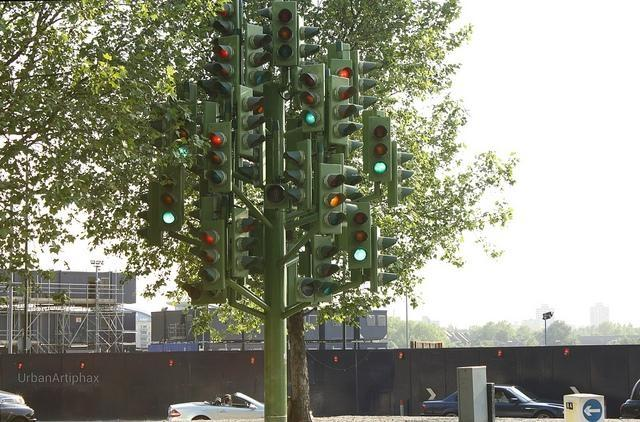car: (419, 385, 565, 418), (168, 388, 264, 418), (0, 391, 38, 421), (622, 380, 640, 414)
